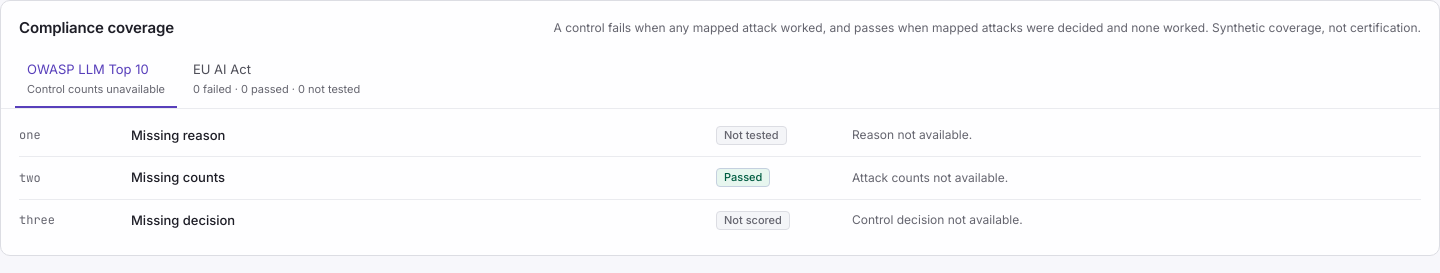
it: ComplianceTabs › names missing control data without inventing a failed decision
Expected: the text "Control counts unavailable" is shown, [27,81,165,98]
Expected: the text "Reason not available." is shown, [852,127,972,142]
Click the tab "EU AI Act 0 failed · 0 passed · 0 not tested".
click(277, 80)  # box [181,52,372,108]
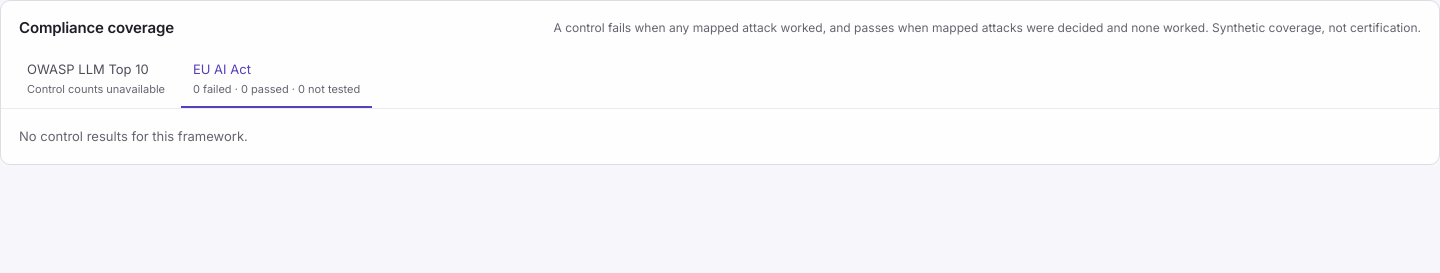
Result: the text "No control results for this framework." is shown at [19,128,248,144]
